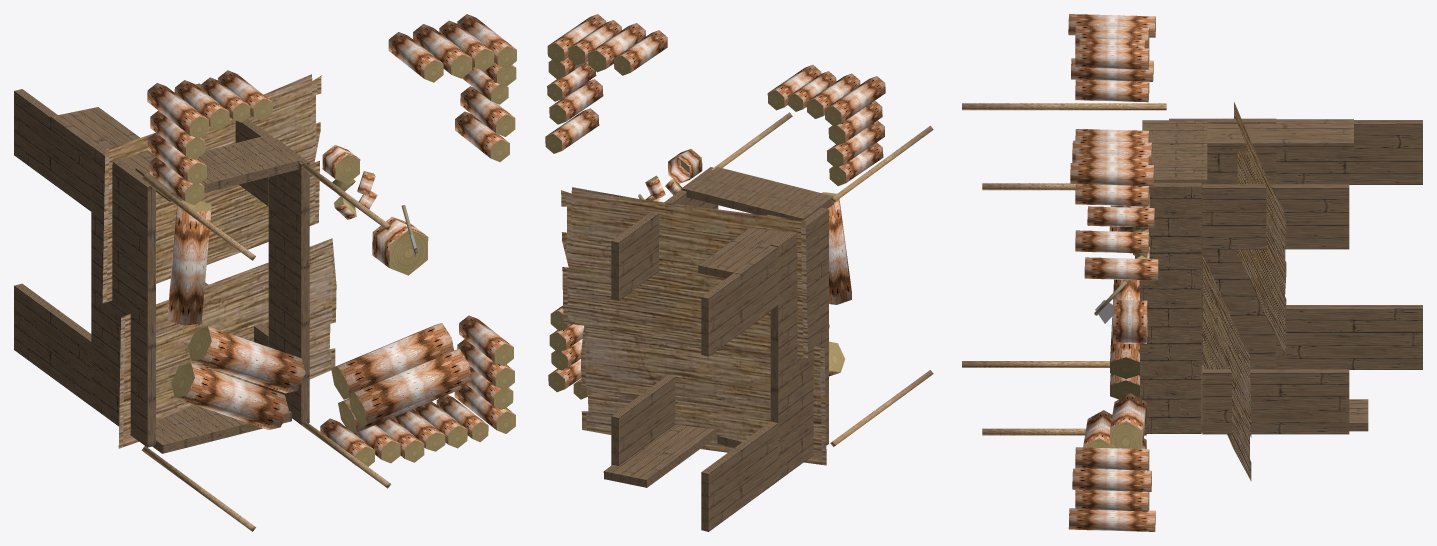
File: lumbercamp_000001.obj
3 renders of one model, left to right at view 1: azimuth 30°, elevation 25°; view 2: azimuth 150°, elevation 25°; view 3: azimuth 270°, elevation 25°, orthographic. The views are drawn at different scales.
Visible parts, largest first — view 1: Cube, Cube.001, Cube.002, Cube.007_Cube.010, Cube.004_Cube.007, Cube.003_Cube.006, Cylinder.009_Cylinder.013, Cylinder.008_Cylinder.012, Cylinder.003_Cylinder.004, Cylinder.007_Cylinder.011, Cylinder.001_Cylinder.002, Cube.011_Cube.014 (+34 smaller); view 2: Cube.001, Cube.002, Cube, Cube.004_Cube.007, Cube.003_Cube.006, Cube.011_Cube.014, Cube.005_Cube.008, Cube.009_Cube.012, Cube.006_Cube.009, Cube.010_Cube.013, Cylinder.007_Cylinder.011, Cylinder.027_Cylinder.031 (+20 smaller); view 3: Cube.007_Cube.010, Cube.004_Cube.007, Cube.006_Cube.009, Cube.005_Cube.008, Cube.003_Cube.006, Cube, Cube.001, Cube.002, Cube.010_Cube.013, Cube.011_Cube.014, Cylinder.031_Cylinder.035, Cylinder.017_Cylinder.021 (+26 smaller).
Boxes of the visible parts, bbox=[...] form: Cube: bbox=[91, 144, 155, 447]; Cube.001: bbox=[102, 74, 321, 303]; Cube.002: bbox=[118, 238, 336, 448]; Cube.007_Cube.010: bbox=[268, 139, 309, 424]; Cube.004_Cube.007: bbox=[14, 283, 91, 405]; Cube.003_Cube.006: bbox=[14, 89, 91, 211]; Cylinder.009_Cylinder.013: bbox=[171, 363, 288, 429]; Cylinder.008_Cylinder.012: bbox=[188, 326, 305, 393]; Cylinder.003_Cylinder.004: bbox=[349, 349, 471, 425]; Cylinder.007_Cylinder.011: bbox=[167, 200, 211, 325]; Cylinder.001_Cylinder.002: bbox=[331, 323, 453, 399]; Cube.011_Cube.014: bbox=[135, 135, 299, 201]; Cube.001: bbox=[561, 187, 807, 359]; Cube.002: bbox=[581, 325, 826, 465]; Cube: bbox=[770, 207, 828, 480]; Cube.004_Cube.007: bbox=[701, 421, 778, 531]; Cube.003_Cube.006: bbox=[701, 248, 778, 356]; Cube.011_Cube.014: bbox=[686, 167, 833, 220]; Cube.005_Cube.008: bbox=[611, 375, 675, 465]; Cube.009_Cube.012: bbox=[603, 424, 716, 487]; Cube.006_Cube.009: bbox=[611, 190, 688, 300]; Cube.010_Cube.013: bbox=[698, 214, 810, 281]; Cylinder.007_Cylinder.011: bbox=[821, 192, 851, 304]; Cylinder.027_Cylinder.031: bbox=[825, 76, 885, 126]; Cube.007_Cube.010: bbox=[1140, 182, 1201, 433]; Cube.004_Cube.007: bbox=[1276, 305, 1422, 369]; Cube.006_Cube.009: bbox=[1202, 184, 1349, 249]; Cube.005_Cube.008: bbox=[1202, 369, 1349, 434]; Cube.003_Cube.006: bbox=[1276, 120, 1422, 184]; Cube: bbox=[1169, 118, 1276, 369]; Cube.001: bbox=[1234, 102, 1286, 356]; Cube.002: bbox=[1202, 255, 1251, 481]; Cube.010_Cube.013: bbox=[1207, 119, 1353, 151]; Cube.011_Cube.014: bbox=[1142, 120, 1207, 187]; Cylinder.031_Cylinder.035: bbox=[1070, 163, 1154, 186]; Cylinder.017_Cylinder.021: bbox=[1068, 508, 1155, 531].
Bounding box in the file's own units: 5.82 × 6.69 × 7.29.
